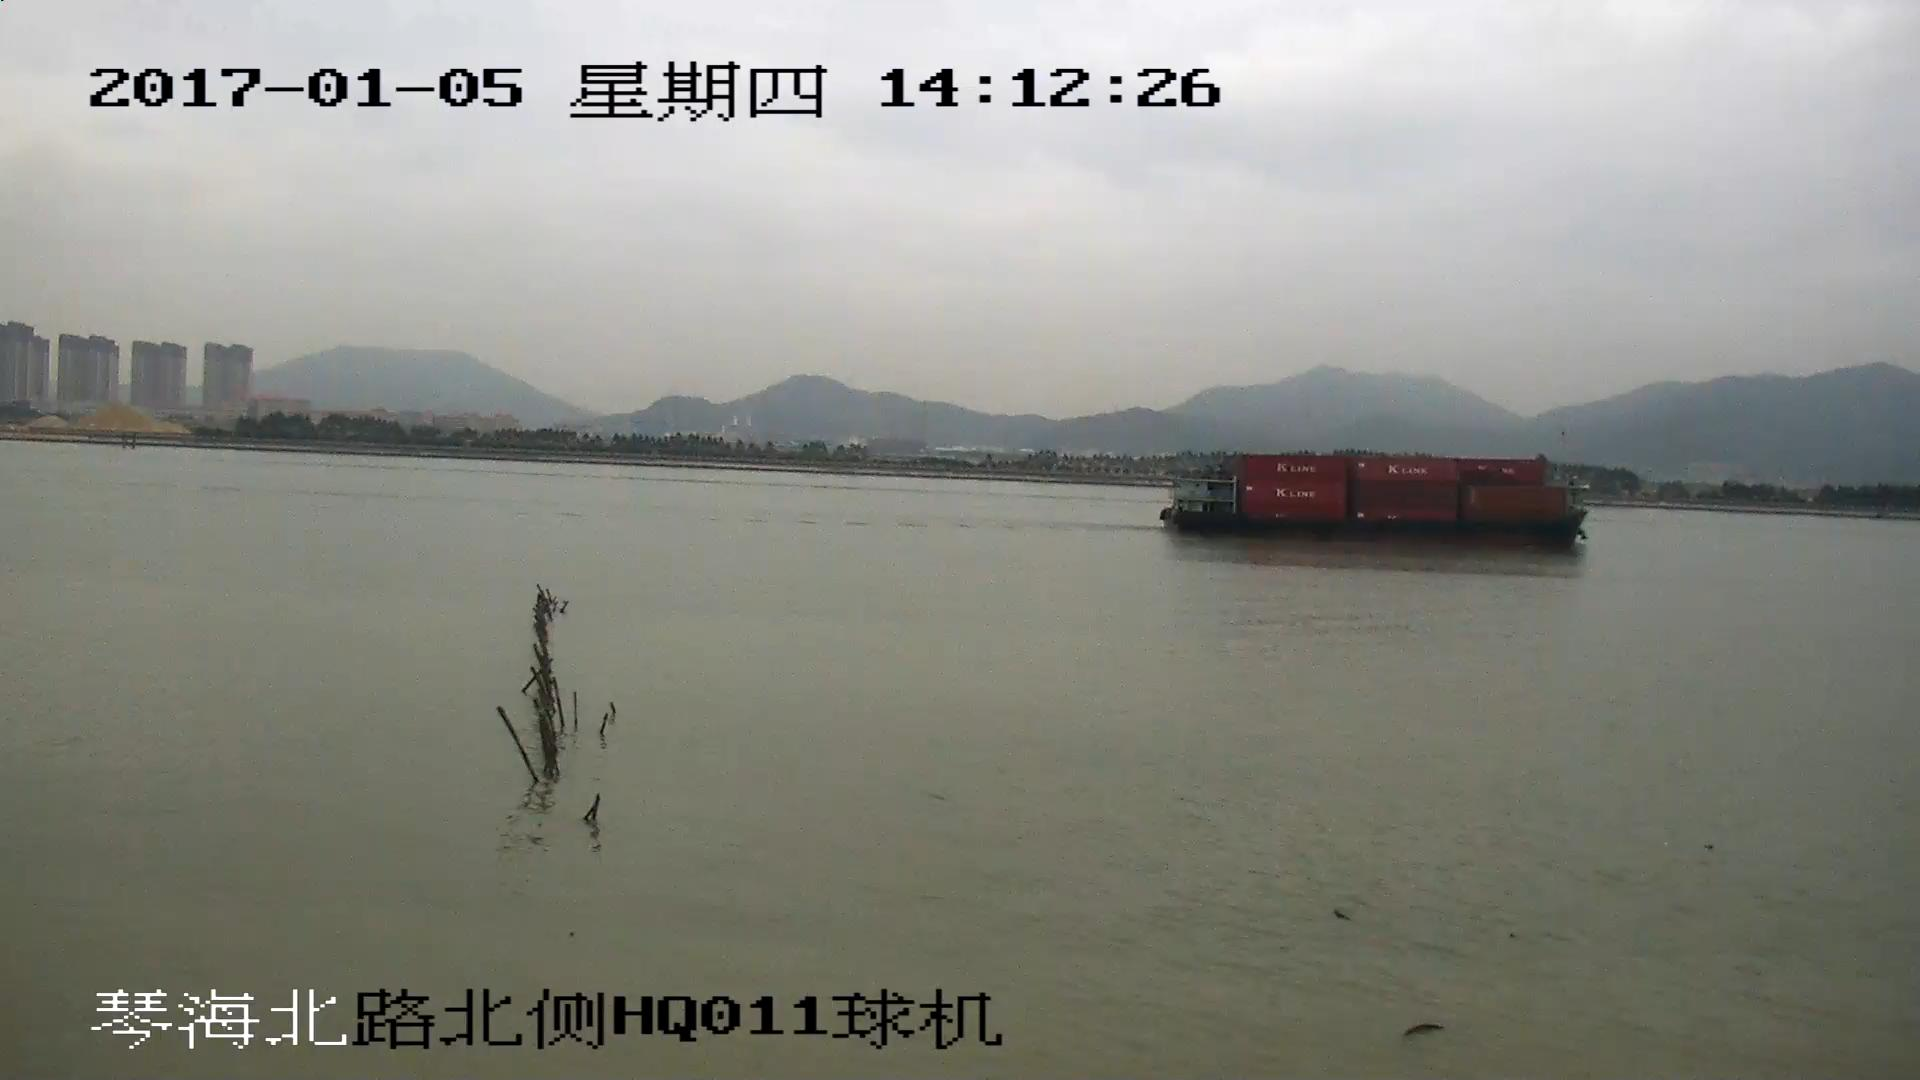container ship: (1166, 453, 1587, 544)
